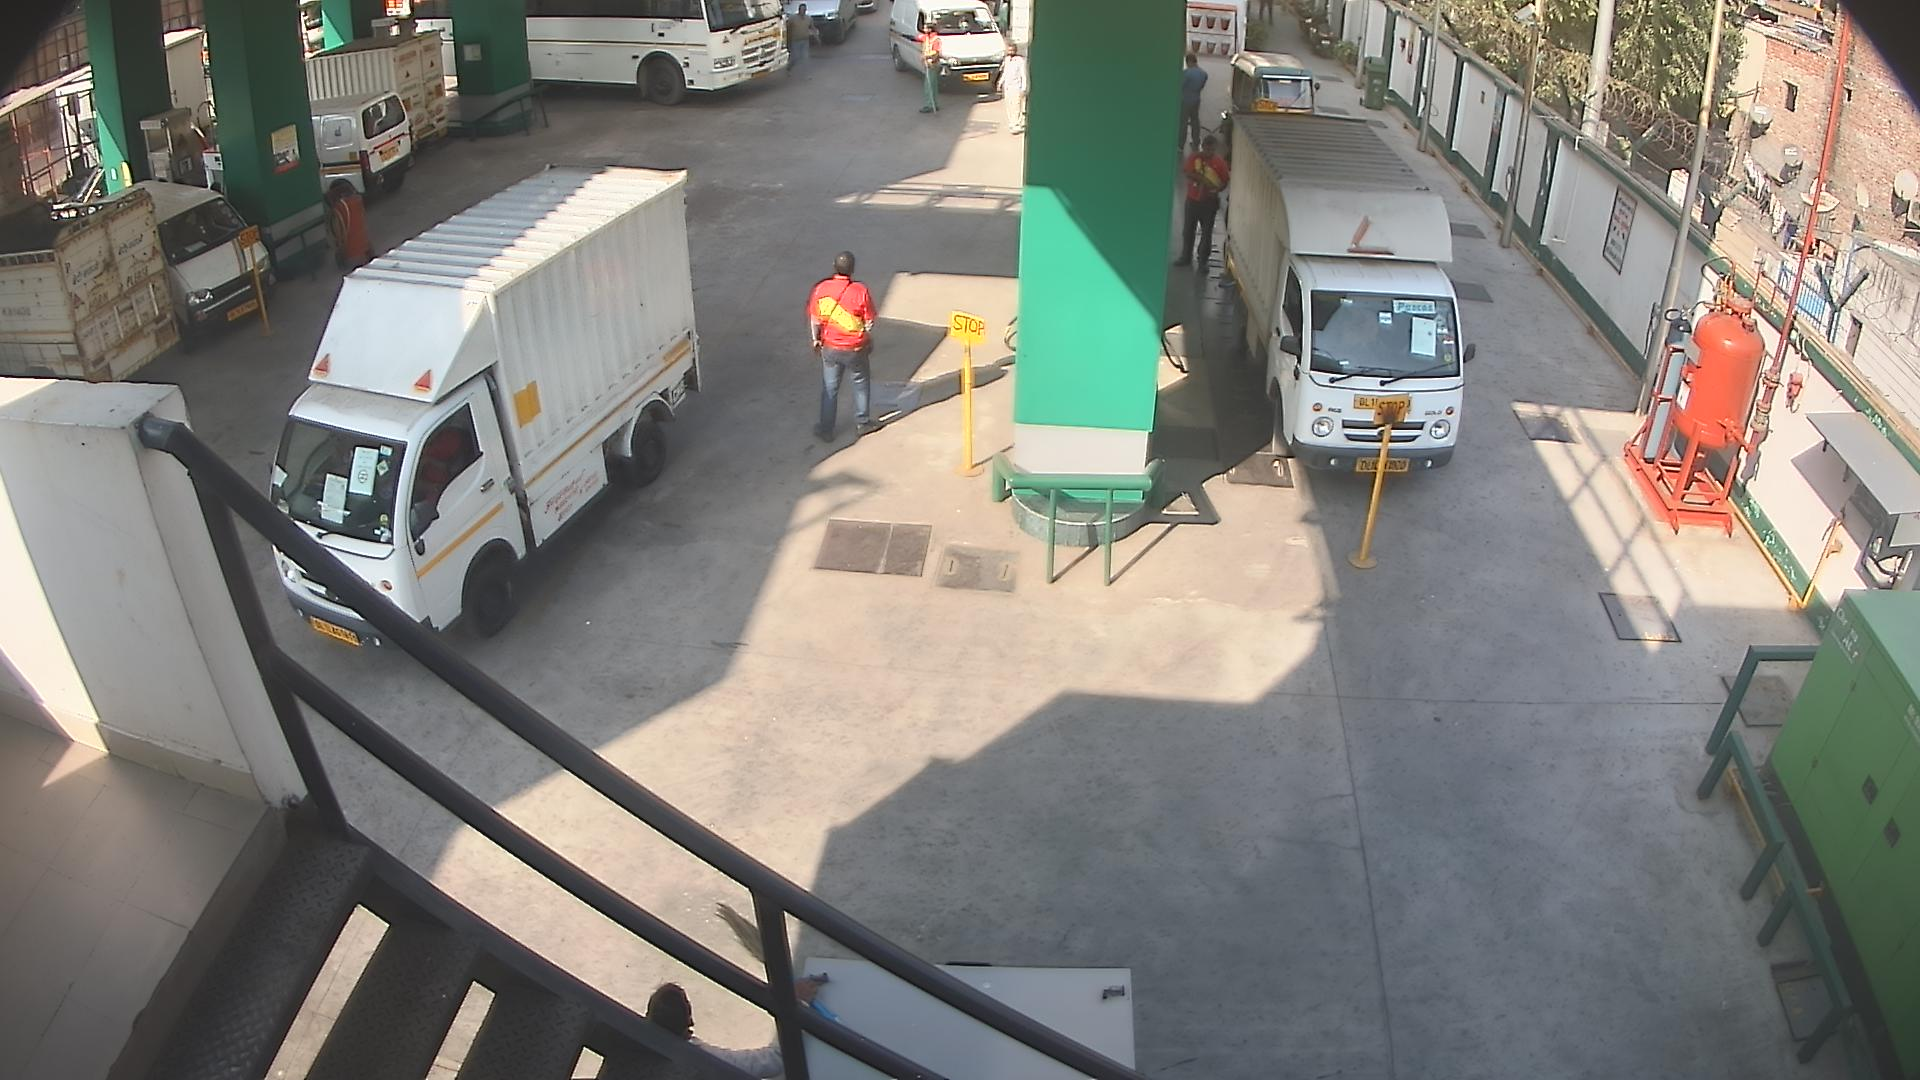Auto: (1213, 34, 1331, 132)
Car: (83, 161, 294, 372), (294, 78, 427, 231), (872, 1, 1021, 105), (767, 3, 865, 51), (837, 1, 893, 32)
HMV: (255, 152, 723, 659), (1207, 94, 1485, 492), (0, 170, 204, 413), (495, 1, 808, 116), (282, 15, 458, 167)
Others: (793, 245, 887, 443), (1166, 117, 1232, 293), (315, 165, 382, 285), (903, 11, 952, 123)
Others Other: (1340, 378, 1415, 587), (939, 294, 997, 492), (235, 208, 291, 349), (1240, 80, 1284, 120)
